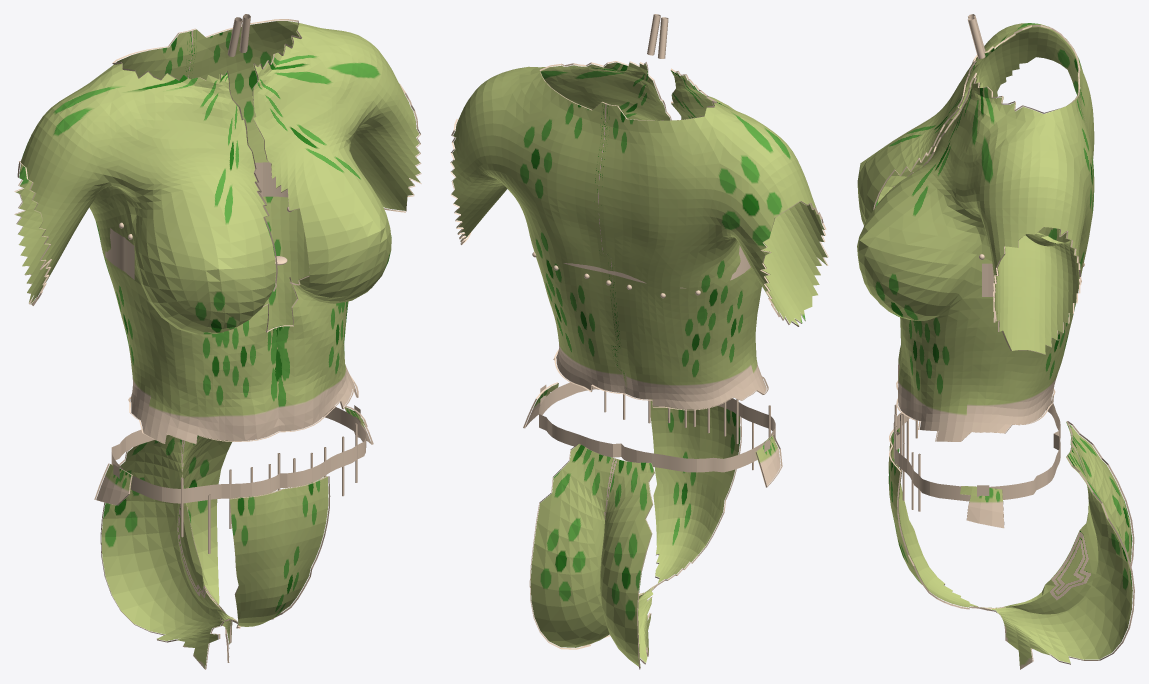
File: composite_floral.glb
3 views of the same model, side by side, from view 1: azimuth 30°, elevation 25°; view 2: azimuth 150°, elevation 25°; view 3: azimuth 270°, elevation 25° (orthographic). The views are drawn at different scales.
Parts seen in each view (by area): view 1: world; view 2: world; view 3: world.
Boxes of the visible parts, left/top/right/bottom form: world: left=14, top=14, right=421, bottom=669; world: left=450, top=14, right=828, bottom=669; world: left=857, top=14, right=1134, bottom=669.
Bounding box in the file's own units: 41.12 × 68.64 × 26.62.
Materials: 1 (1 with a texture image).
